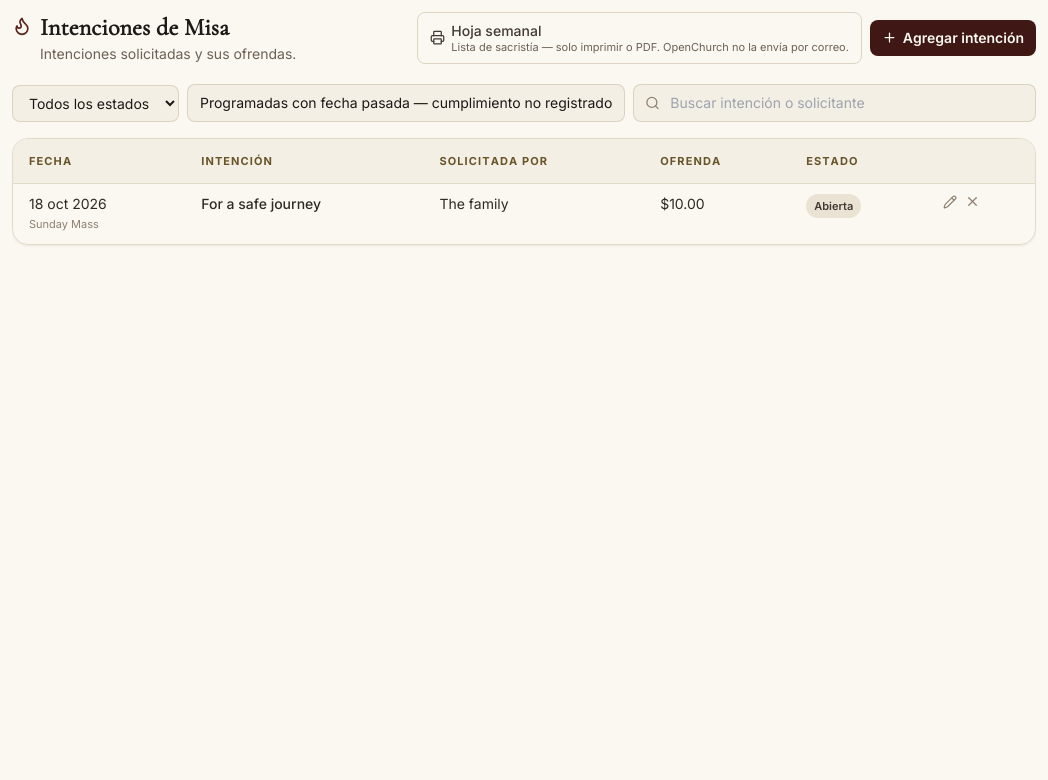
it: SP-063 fulfilment confirmation › says it in Spanish, and not in English
Click the button named "Editar intención": click(950, 202) [943,194,957,208]
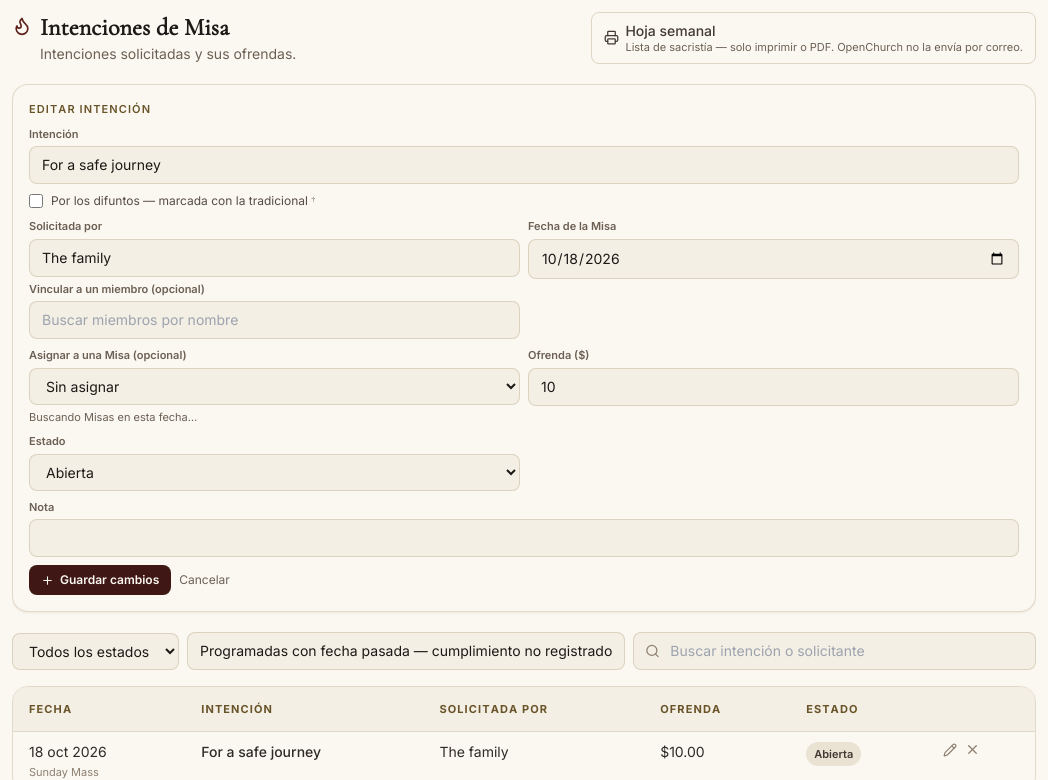
Select "Cumplida" in the dropdown labelled "Estado": (274, 472) [29,454,520,490]
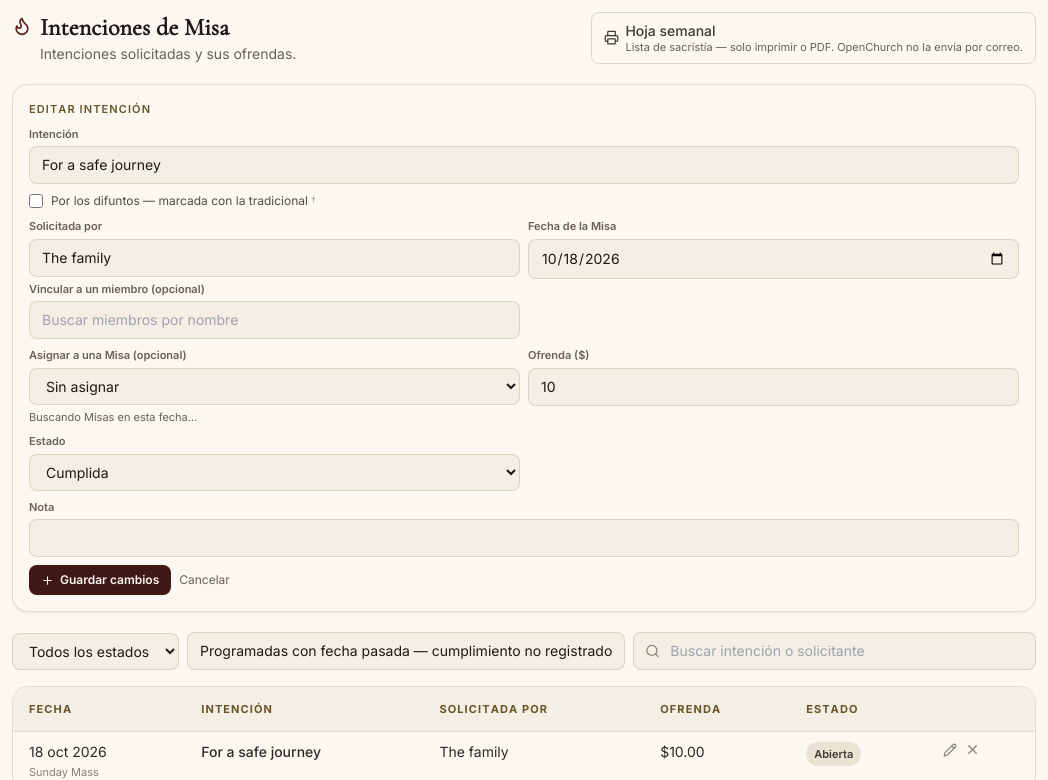
Click the button "Guardar cambios": click(100, 580) [29,565,171,595]
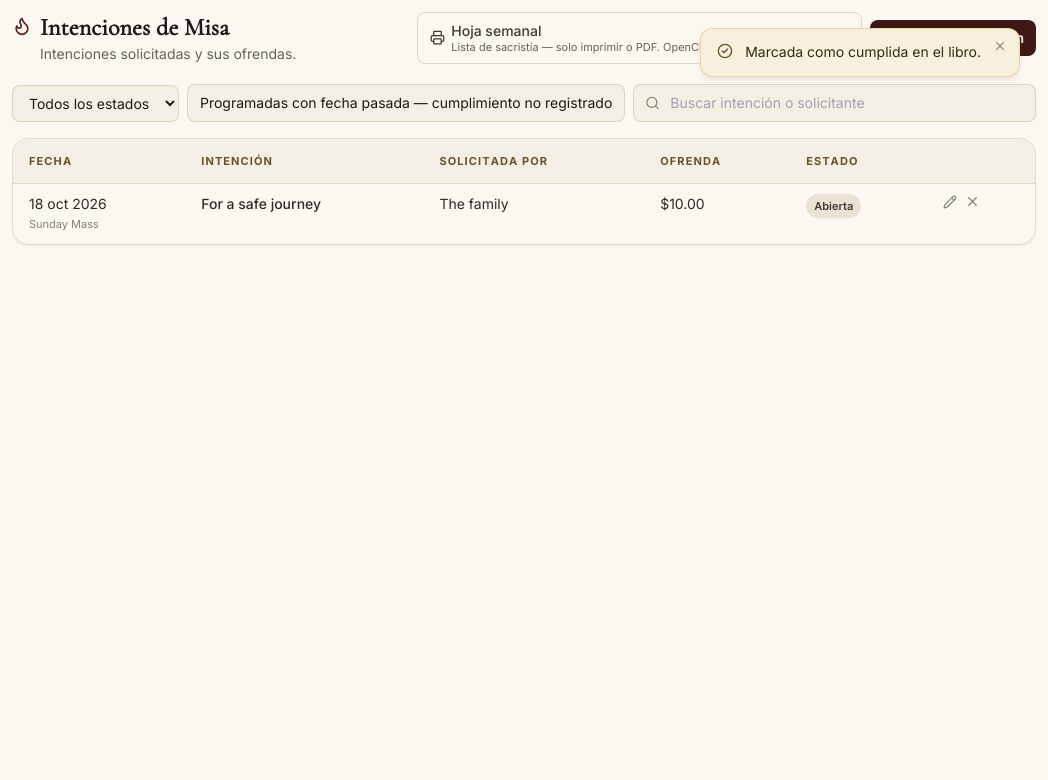
Expected: the text "Marcada como cumplida en el libro." is shown, [745,41,981,64]
